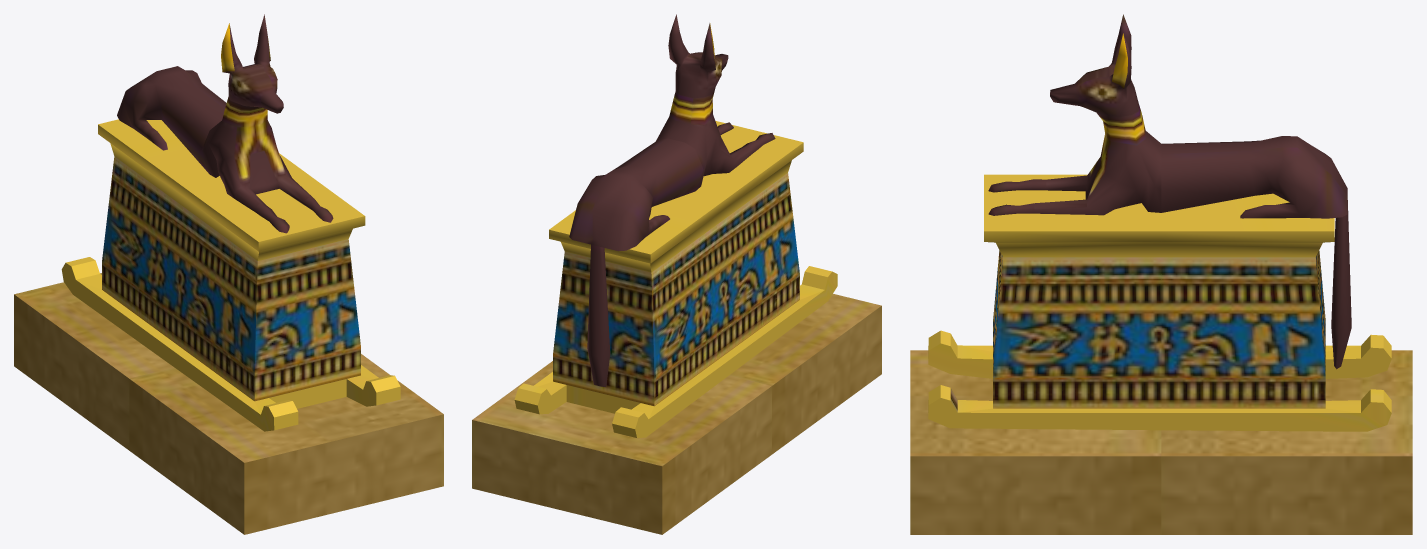
File: egy_anubis.obj
3 renders of one model, left to right at view 1: azimuth 30°, elevation 25°; view 2: azimuth 150°, elevation 25°; view 3: azimuth 270°, elevation 25°, orthographic. The views are drawn at different scales.
Size of the model in its own units: 1 by 2.02 by 2.
